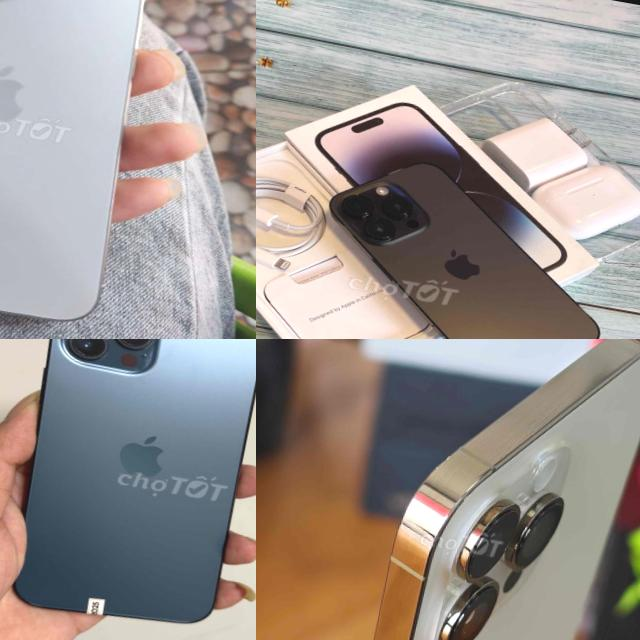gen_12_13: (0, 339, 256, 640)
gen_14: (317, 339, 640, 640), (298, 144, 632, 339)
gen_15: (0, 0, 182, 339)
